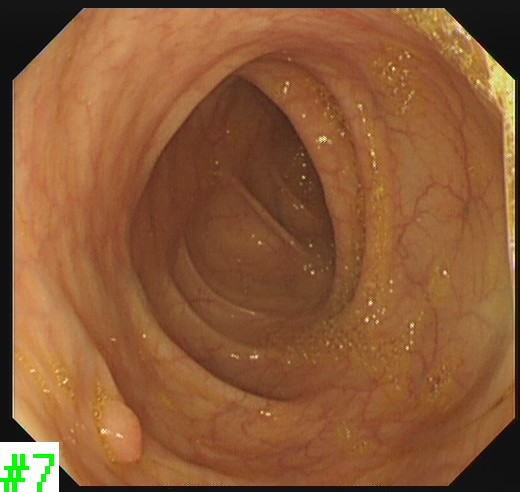adenoma: (92, 396, 145, 466)
